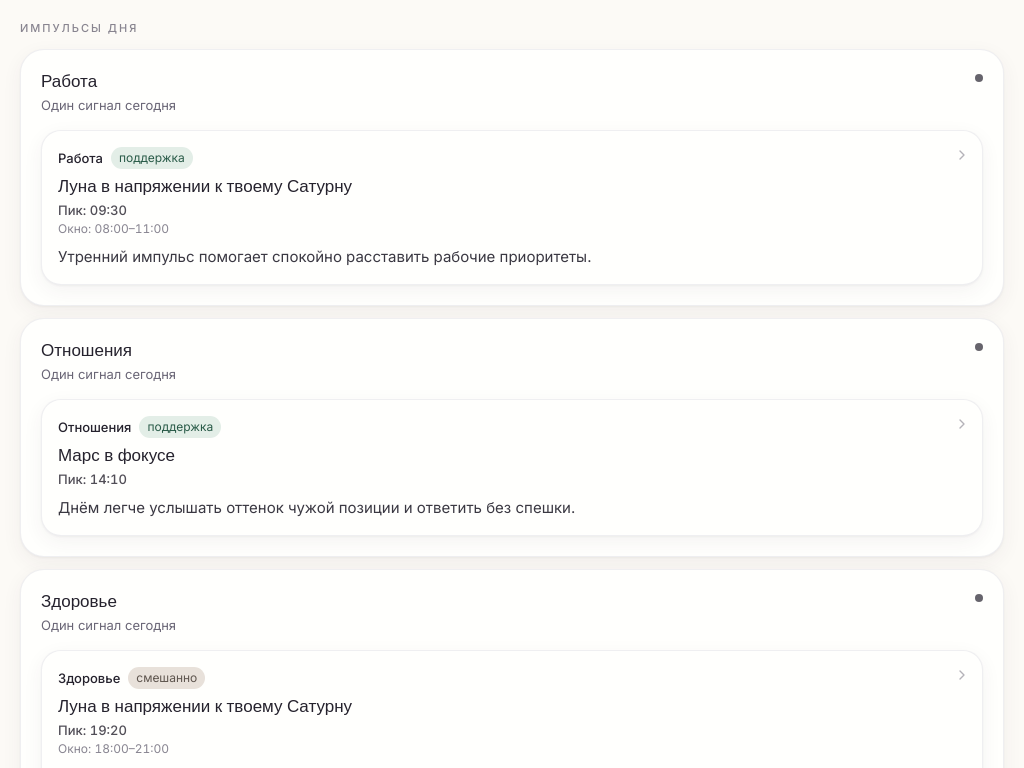
Test case: Today Convergence public time and access projections › opens a dialog lazily, shows Today facts first, and closes on Escape
Step 1. Click the button with aria-label "Открыть разбор сферы «Работа»" → (80, 158), box [41,130,983,284]
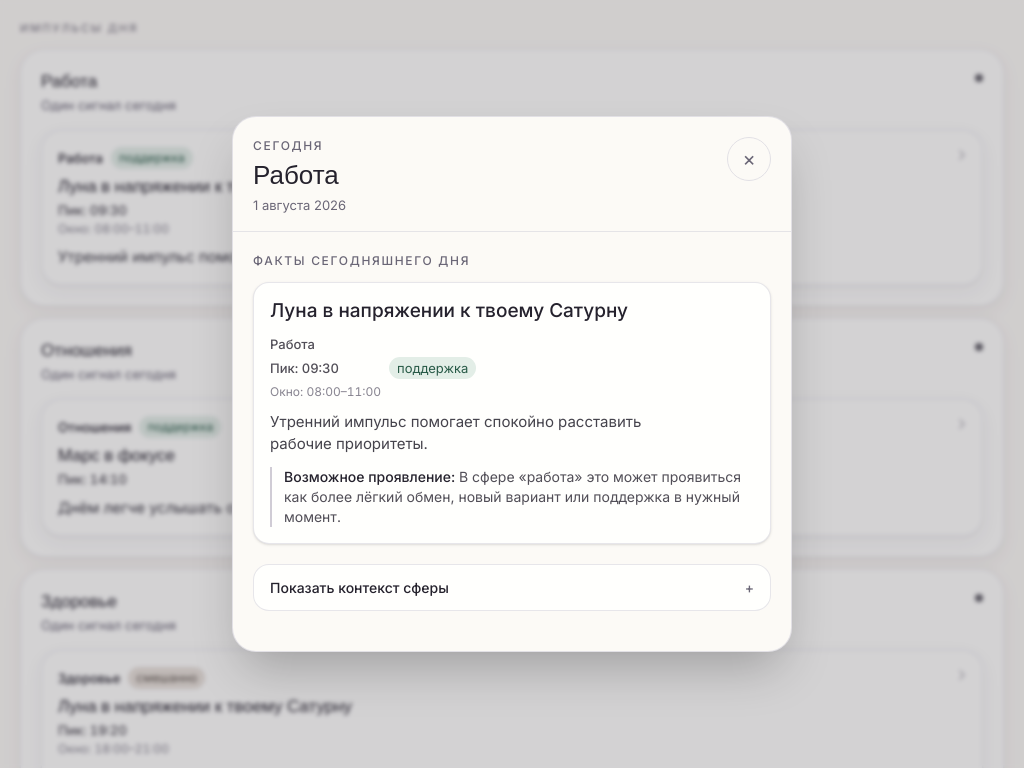
Result: the dialog with test id "impulse-drilldown-sheet" shows "Утренний импульс помогает спокойно расставить рабочие приоритеты." at [270,412,641,453]
Step 2. Click the button with test id "impulse-drilldown-context-trigger" → (359, 588), box [253,564,771,611]
(page scrolled)
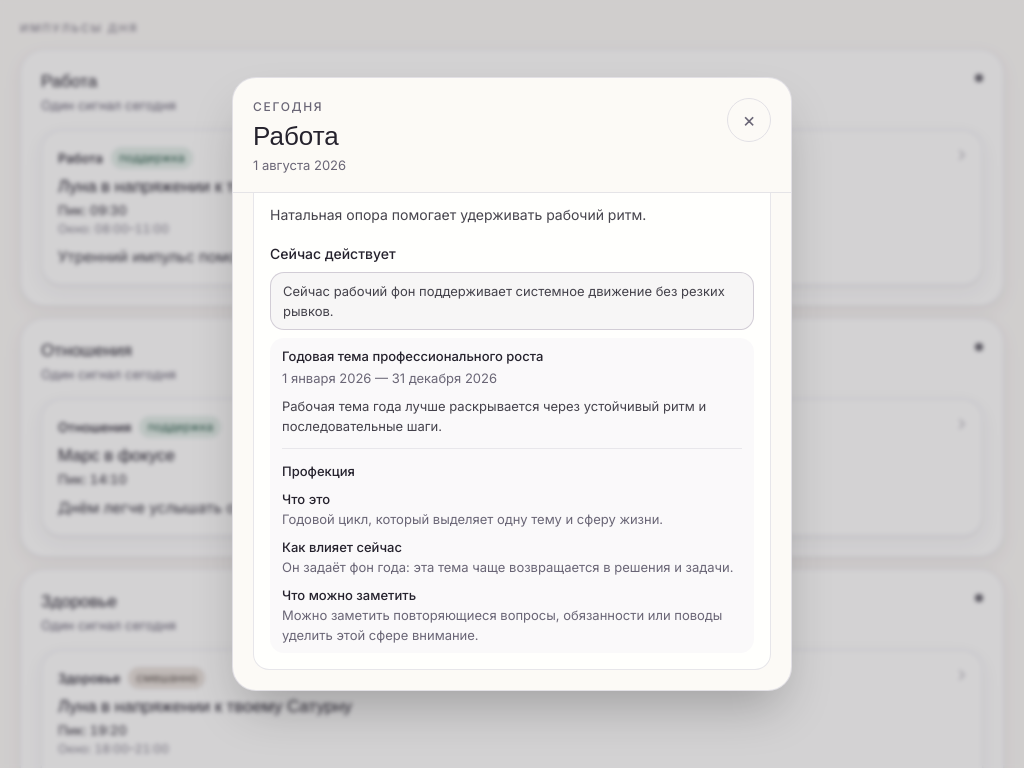
Result: the element with test id "impulse-drilldown-context" is shown at [253,193,771,670]
Result: the text with test id "impulse-drilldown-natal-0" shows "Натальная опора" at [270,206,646,223]
Result: the list item with test id "impulse-drilldown-period-period-work-1" is shown at [270,338,754,653]
Step 3. Press Escape
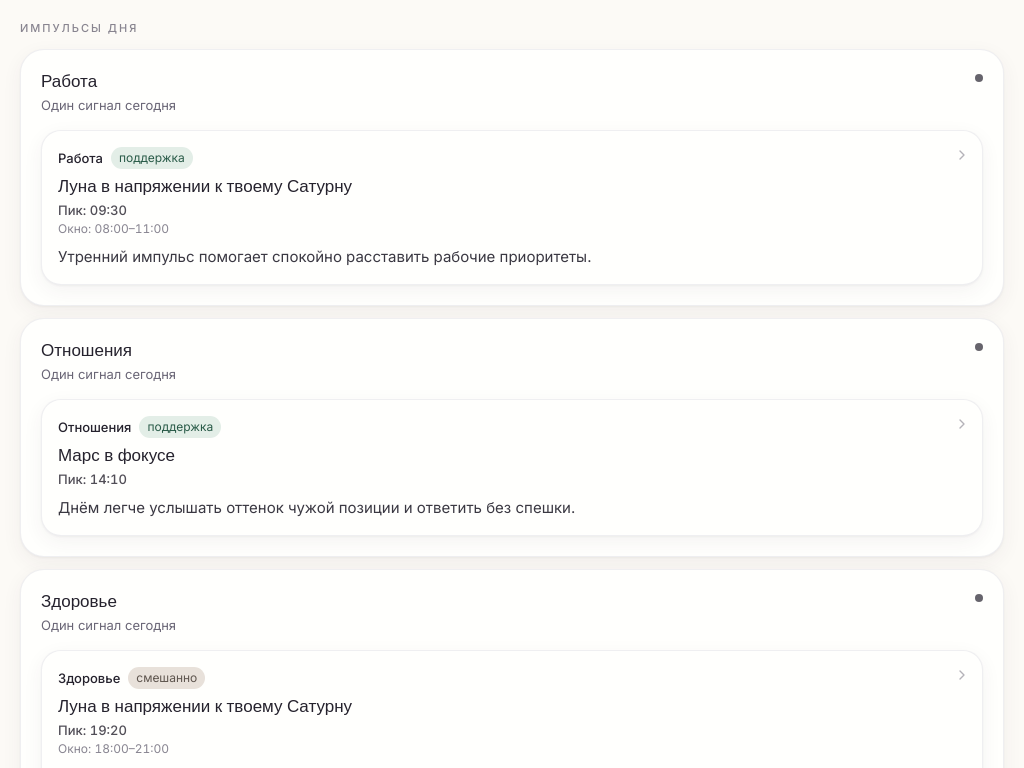
Result: the dialog with test id "impulse-drilldown-sheet" is gone
